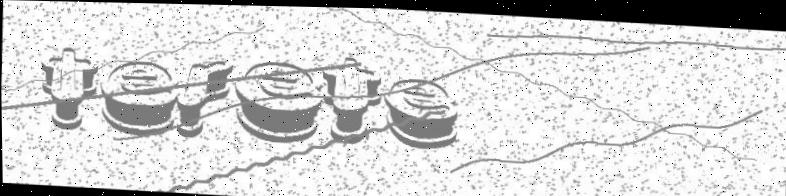e: (227, 54, 324, 146), (372, 69, 466, 152), (95, 55, 177, 138)
r: (168, 53, 234, 135)
t: (29, 41, 100, 131), (318, 51, 384, 142)
